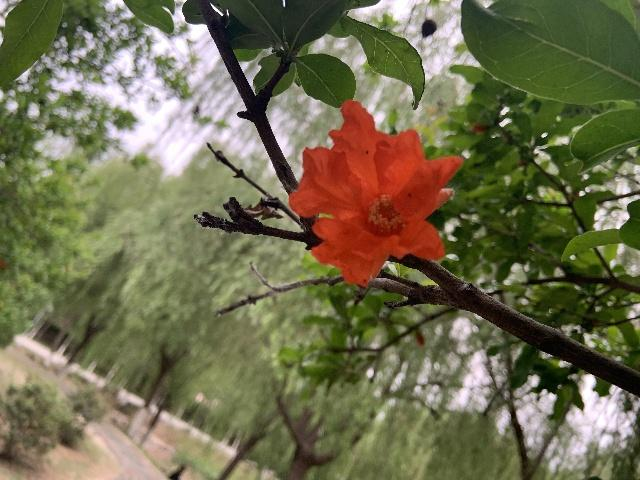flower: (289, 100, 462, 288)
